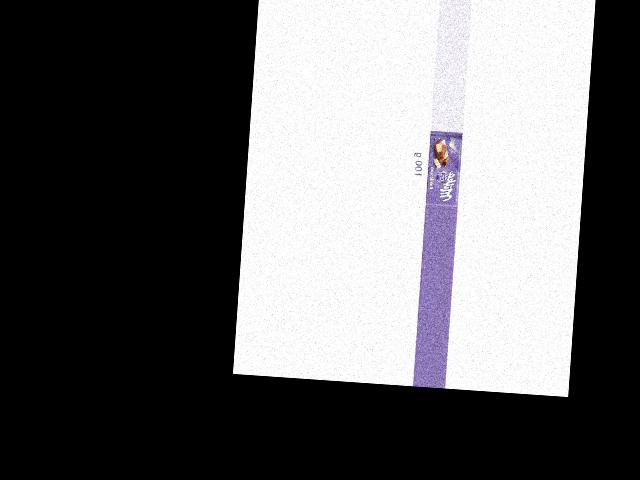chocolate: (420, 129, 463, 209)
